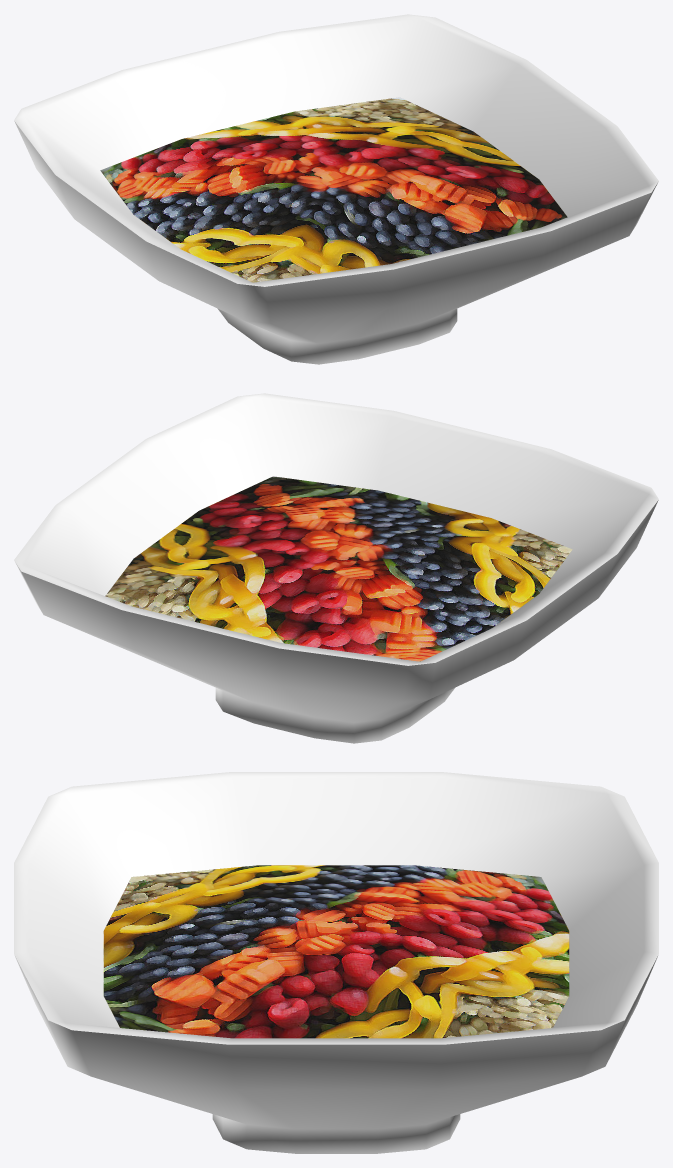
File: RainbowSalad.fbx
3 views of the same model, one above another, from view 1: azimuth 30°, elevation 25°; view 2: azimuth 150°, elevation 25°; view 3: azimuth 270°, elevation 25° (orthographic). The views are drawn at different scales.
Visible parts, largest first — view 1: RainbowSalad; view 2: RainbowSalad; view 3: RainbowSalad.
Part boxes in pixels (x1,y1,x2,y2): RainbowSalad: (14,14,658,364); RainbowSalad: (14,393,658,743); RainbowSalad: (14,772,658,1153).
Size of the model in its own units: 42.14 by 13.91 by 42.14.
Materials: 2 (2 with a texture image).
